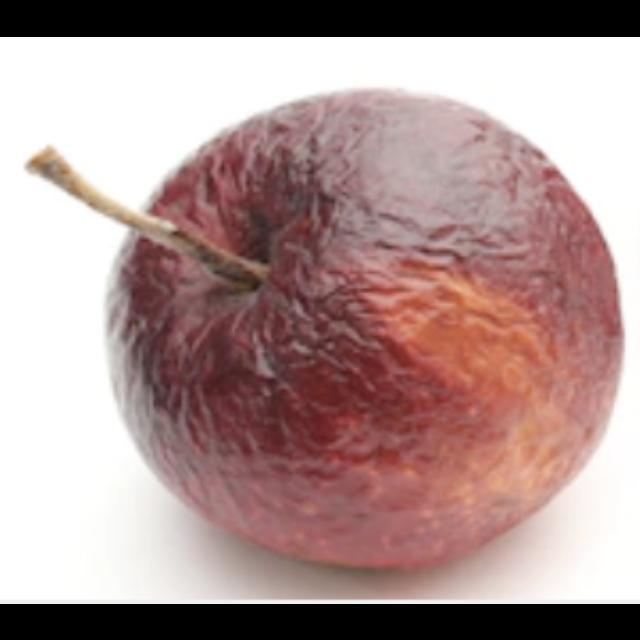Apel Tidak Segar: (98, 57, 630, 580)
